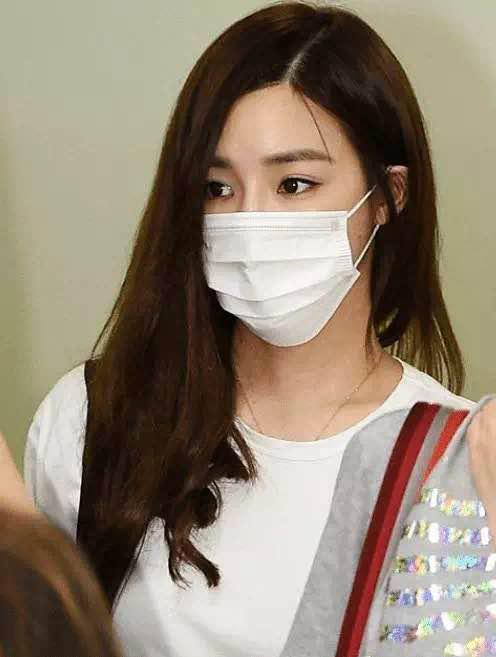OK: (184, 141, 372, 329)
